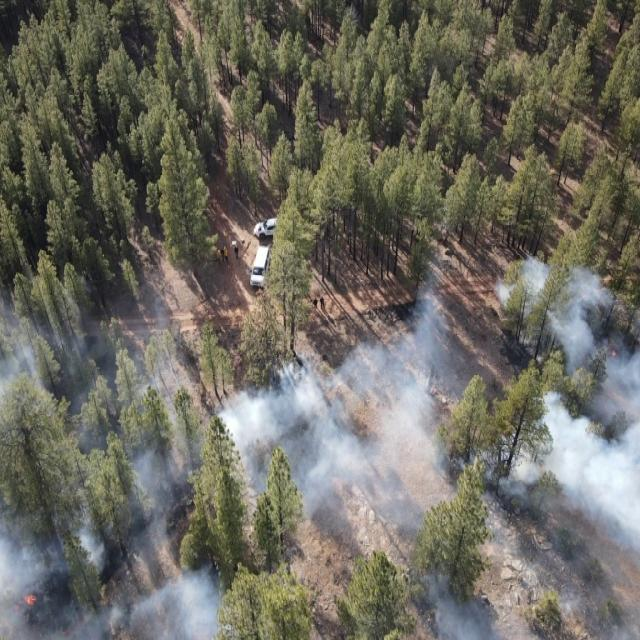fire: (10, 592, 40, 622), (142, 528, 166, 544), (607, 346, 619, 360)
smoke: (0, 362, 640, 640), (338, 251, 640, 361), (0, 284, 175, 362)
